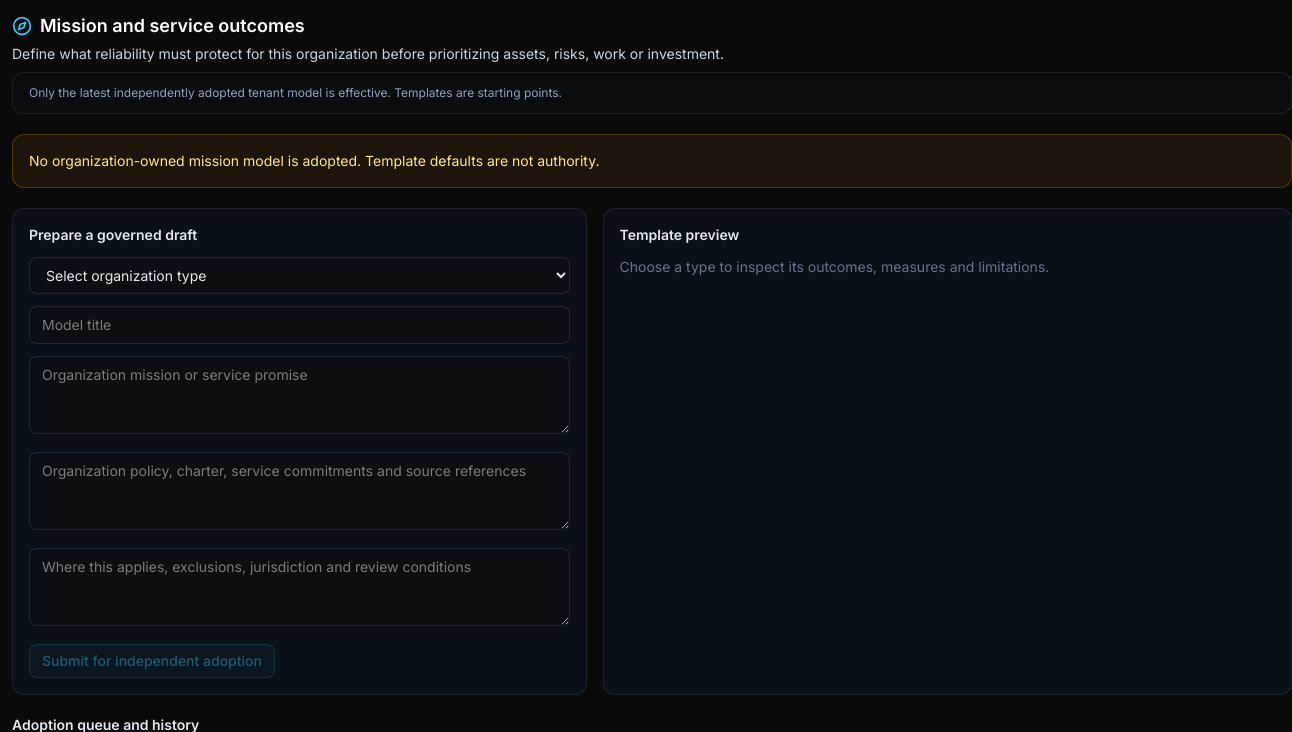
Test case: MissionOutcomeModels › previews a governed organization template and submits evidence
Later steps or results of the test are not shown.
Expected: the text "Template defaults are not authority" is shown, [29,152,600,169]
Select "Mining production outcomes" in the dropdown named "Organization type": (299,276) [29,257,570,294]
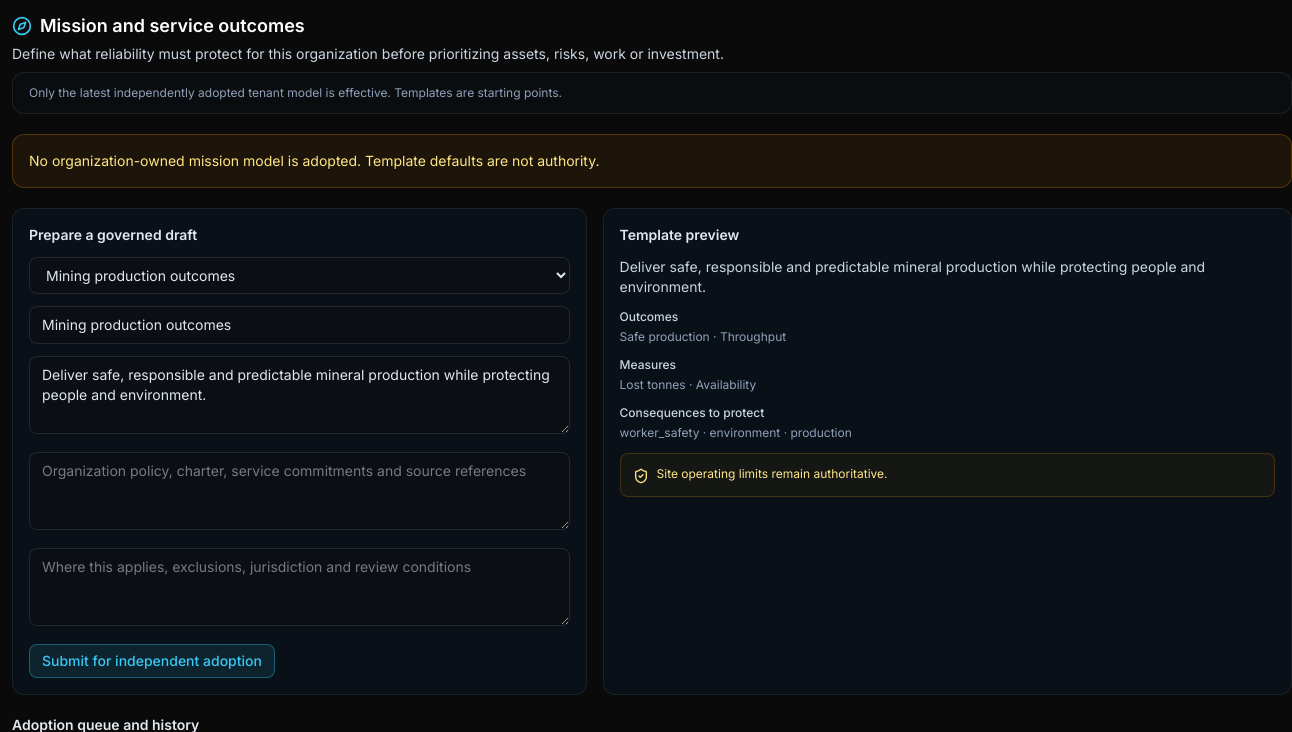
Expected: the text "Safe production · Throughput" is shown, [620,329,786,344]
Expected: the text "Site operating limits remain authoritative." is shown, [620,453,1275,497]
